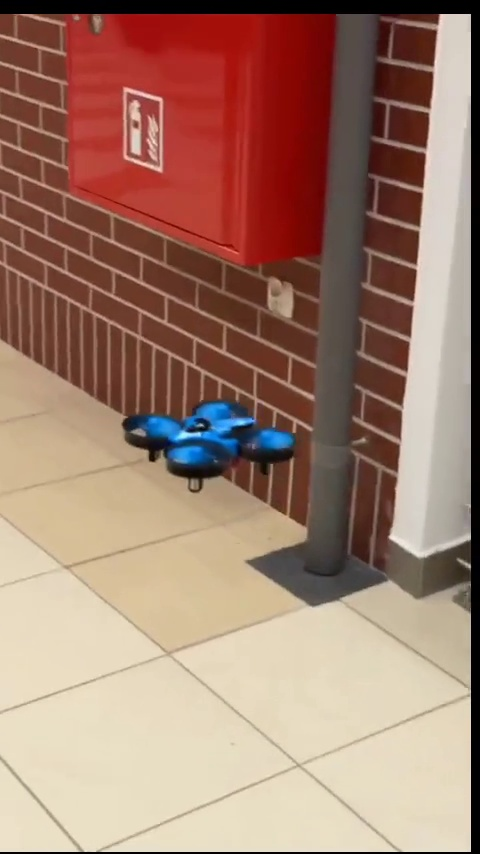drone: (124, 395, 299, 494)
